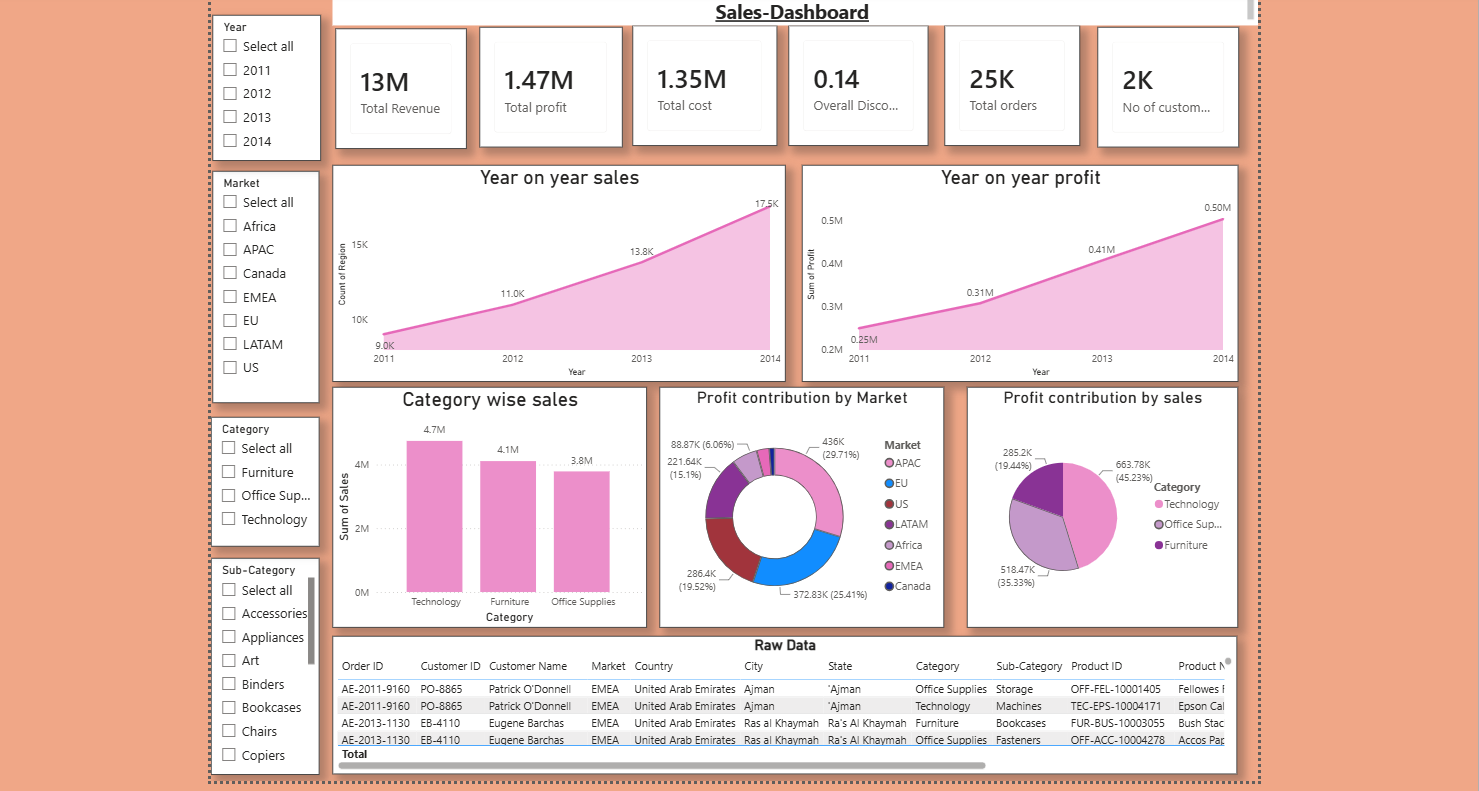

Layout of this report page (visuals, bound fields, positions):
{"tool":"powerbi","page":{"name":"Page 1","canvas":[1289,968],"ordinal":0},"visuals":[{"type":"slicer","fields":{"Values":["Orders.Market"]},"box":[1.9,218.4,131.4,285.1],"z":0},{"type":"slicer","fields":{"Values":["Orders.Sub-Category"]},"box":[0,694.2,133.3,266.6],"z":1000},{"type":"slicer","fields":{"Values":["Orders.Order Date.Variation.Date Hierarchy.Year"]},"box":[1.9,25.9,133.3,179.6],"z":2000},{"type":"cardVisual","fields":{"Data":["Orders.Total Revenue"]},"box":[152.4,43.2,161,148.1],"z":3000},{"type":"cardVisual","fields":{"Data":["Orders.Total profit"]},"box":[330.1,41.3,175.9,148.1],"z":4000},{"type":"cardVisual","fields":{"Data":["Orders.Total cost"]},"box":[518.9,39.5,177.7,148.1],"z":5000},{"type":"cardVisual","fields":{"Data":["Orders.Overall Discount"]},"box":[709.6,39.5,172.2,148.1],"z":6000},{"type":"cardVisual","fields":{"Data":["Orders.Total orders"]},"box":[901.5,38.9,166.6,148.1],"z":7000},{"type":"cardVisual","fields":{"Data":["Orders.No of customers"]},"box":[1090.9,41.3,174,148.1],"z":8000},{"type":"areaChart","title":"Year on year sales ","fields":{"Category":["Orders.Order Date.Variation.Date Hierarchy.Year"],"Y":["CountNonNull(Orders.Region)"]},"box":[149.9,209.8,557.2,266.6],"z":9000},{"type":"areaChart","title":"Year on year profit","fields":{"Category":["Orders.Order Date.Variation.Date Hierarchy.Year"],"Y":["Sum(Orders.Profit)"]},"box":[727.5,209.8,536.8,266.6],"z":10000},{"type":"slicer","fields":{"Values":["Orders.Category"]},"box":[0,520.2,133.3,159.2],"z":11000},{"type":"columnChart","title":" Category wise sales","fields":{"Category":["Orders.Category"],"Y":["Sum(Orders.Sales)"]},"box":[149.9,483.1,386.9,296.2],"z":12000},{"type":"pieChart","title":"Profit contribution by sales","fields":{"Category":["Orders.Category"],"Y":["Sum(Orders.Profit)"]},"box":[929.3,483.1,333.2,296.2],"z":13000},{"type":"donutChart","title":" Profit contribution by Market","fields":{"Category":["Orders.Market"],"Y":["Sum(Orders.Profit)"]},"box":[551.6,483.1,349.9,296.2],"z":14000},{"type":"tableEx","title":"Raw Data","fields":{"Values":["Orders.Order ID","Orders.Customer ID","Orders.Customer Name","Orders.Market","Orders.Country","Orders.City","Orders.State","Orders.Category","Orders.Sub-Category","Orders.Product ID","Orders.Product Name","Sum(Orders.Quantity)"]},"box":[149.9,790.4,1112.5,170.3],"z":15000},{"type":"textbox","box":[149.9,0,1138.5,38.9],"z":16000}]}

Visuals, with their boxes in screenshot pixels (x1, y1, x2, y2):
slicer - Orders.Market: (210,168,315,397)
slicer - Orders.Sub-Category: (208,551,315,765)
slicer - Orders.Order Date.Variation.Date Hierarchy.Year: (210,13,317,158)
cardVisual - Orders.Total Revenue: (331,27,460,146)
cardVisual - Orders.Total profit: (474,26,615,145)
cardVisual - Orders.Total cost: (625,24,768,143)
cardVisual - Orders.Overall Discount: (779,24,917,143)
cardVisual - Orders.Total orders: (933,24,1067,143)
cardVisual - Orders.No of customers: (1085,26,1225,145)
"Year on year sales " areaChart: (329,161,777,376)
"Year on year profit" areaChart: (793,161,1225,376)
slicer - Orders.Category: (208,411,315,539)
" Category wise sales" columnChart: (329,381,640,619)
"Profit contribution by sales" pieChart: (956,381,1224,619)
" Profit contribution by Market" donutChart: (652,381,933,619)
"Raw Data" tableEx: (329,628,1223,765)
textbox: (329,0,1244,24)
